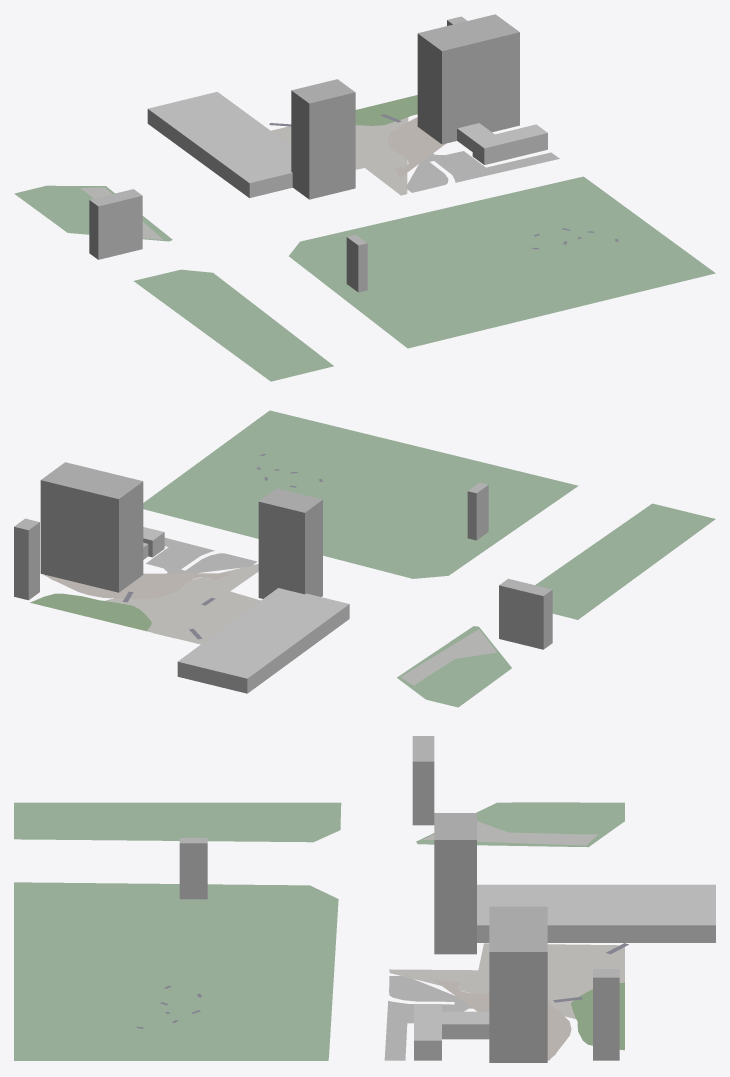
File: 120_79_mid.glb
The picture shows the model from 3 angles, top to bottom: view 1: azimuth 30°, elevation 25°; view 2: azimuth 150°, elevation 25°; view 3: azimuth 270°, elevation 25°; orthographic projection. The views are drawn at different scales.
Size of the model in its own units: 510 by 104 by 575.
